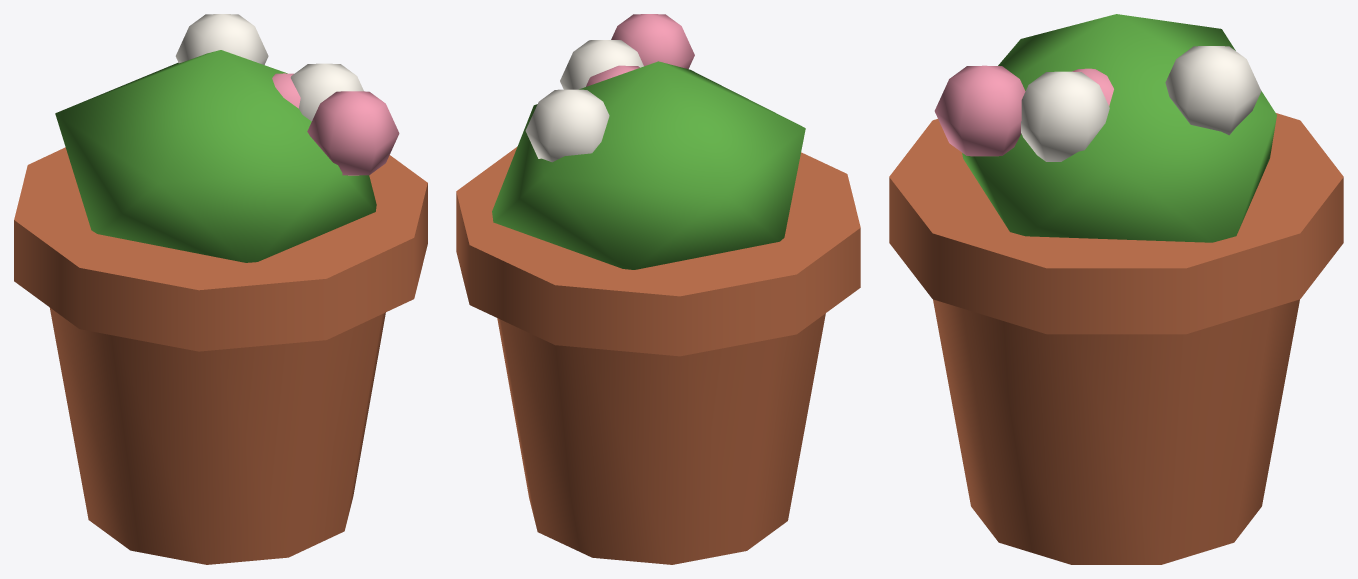
File: prop_flower_pot.glb
3 renders of one model, left to right at view 1: azimuth 30°, elevation 25°; view 2: azimuth 150°, elevation 25°; view 3: azimuth 270°, elevation 25°, orthographic. The views are drawn at different scales.
Visible parts, largest first — view 1: Prop_Flower_Pot; view 2: Prop_Flower_Pot; view 3: Prop_Flower_Pot.
Part boxes in pixels (x1,y1,x2,y2): Prop_Flower_Pot: (14,14,427,564); Prop_Flower_Pot: (456,14,860,564); Prop_Flower_Pot: (889,14,1343,564).
Size of the model in its own units: 0.4755 by 0.5976 by 0.5.
